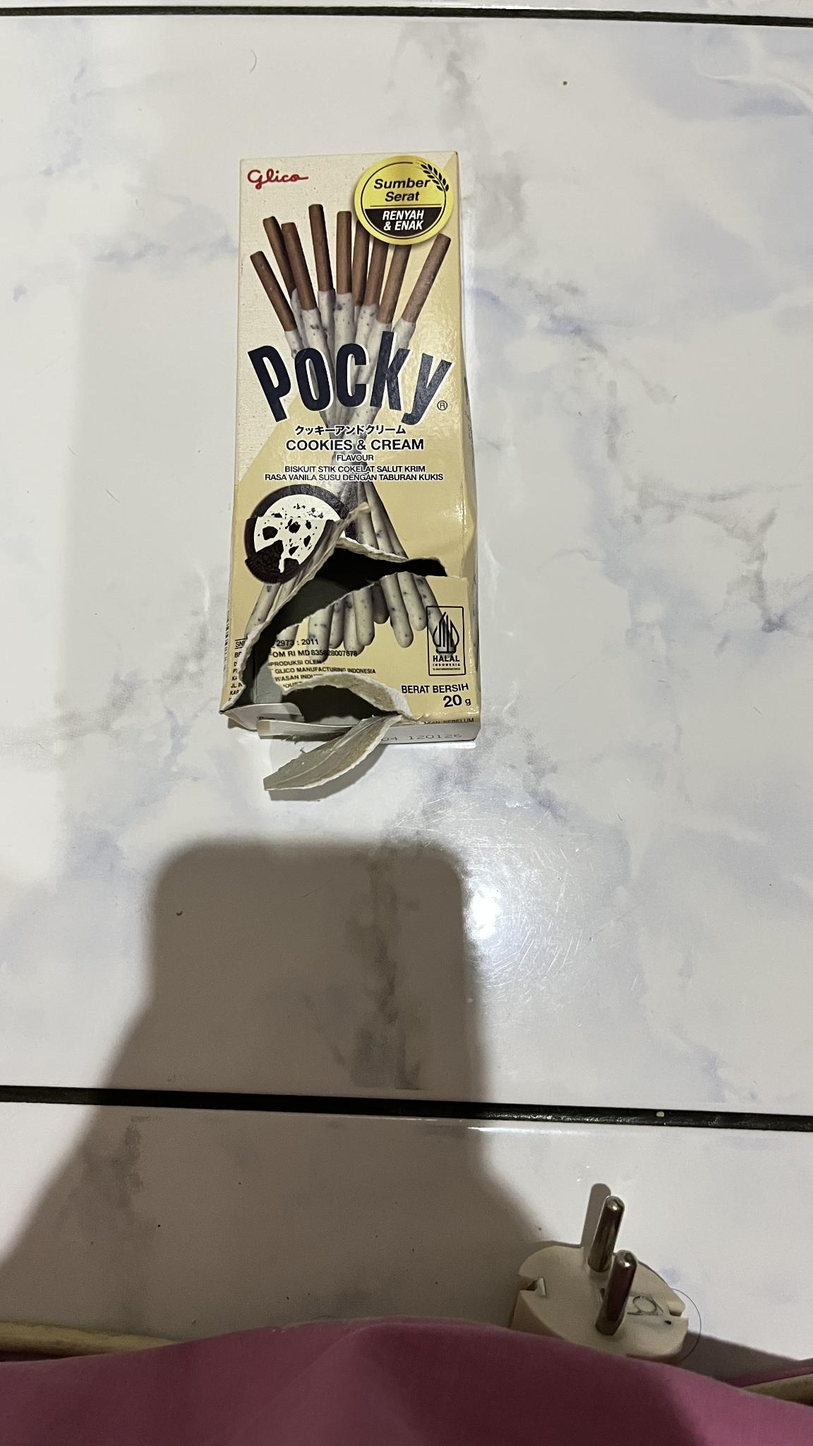Kertas: (233, 143, 484, 732)
